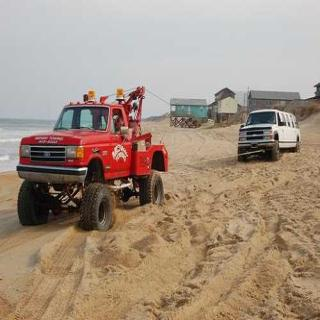Towing_truck: (15, 84, 169, 232)
